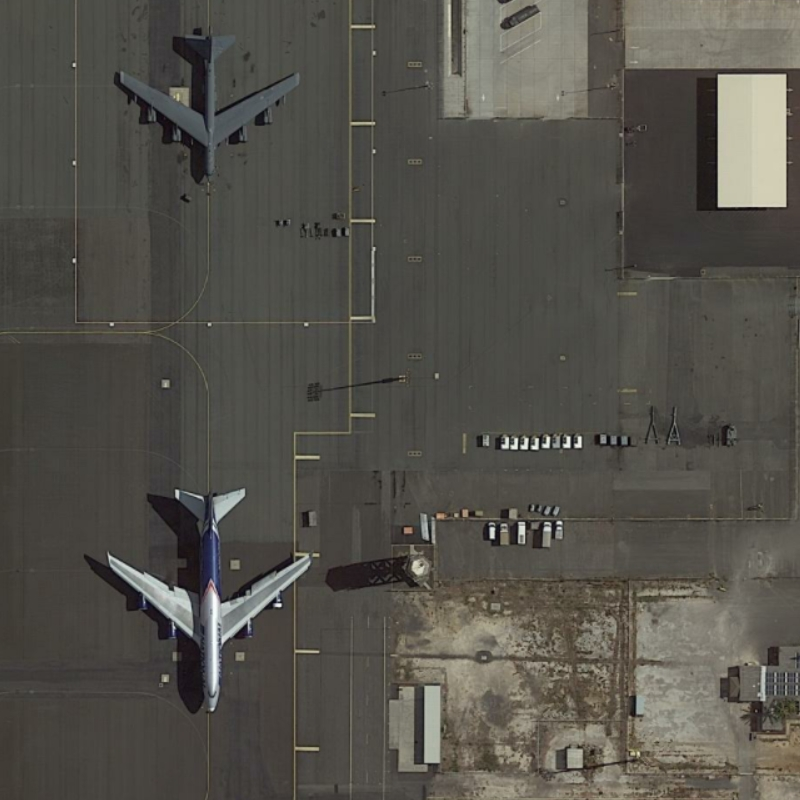A11: (96, 481, 315, 722)
A8: (110, 21, 304, 183)
